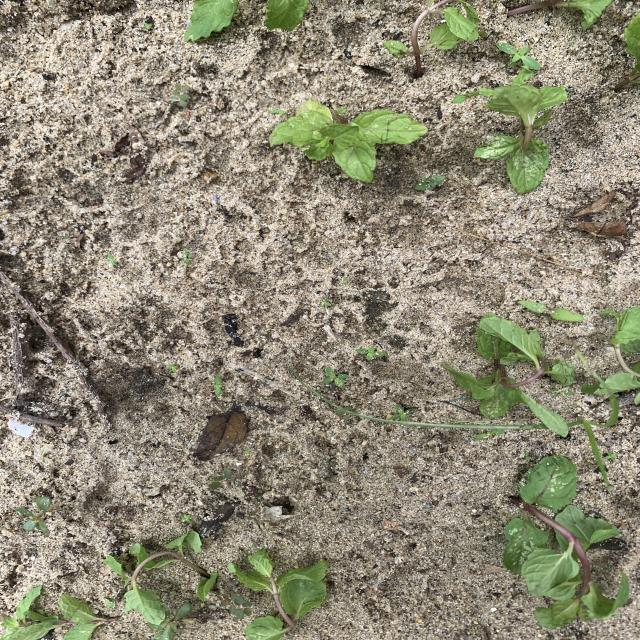crop: (504, 457, 622, 627), (443, 314, 574, 437), (452, 66, 567, 194), (269, 100, 427, 181), (106, 532, 219, 624), (230, 549, 327, 639), (384, 1, 483, 68), (2, 586, 113, 639), (595, 307, 640, 394), (185, 1, 239, 41)
weed: (567, 392, 619, 487), (150, 603, 191, 639), (518, 300, 584, 322), (17, 496, 52, 535), (497, 43, 540, 67), (223, 593, 251, 618), (321, 367, 347, 387), (415, 175, 445, 190), (171, 84, 190, 105), (356, 346, 386, 359), (210, 470, 232, 487), (390, 406, 415, 420), (180, 249, 192, 263), (214, 376, 222, 395), (571, 403, 585, 412), (604, 453, 617, 462), (319, 299, 331, 307), (181, 515, 192, 523), (104, 599, 114, 607), (168, 364, 178, 371)
